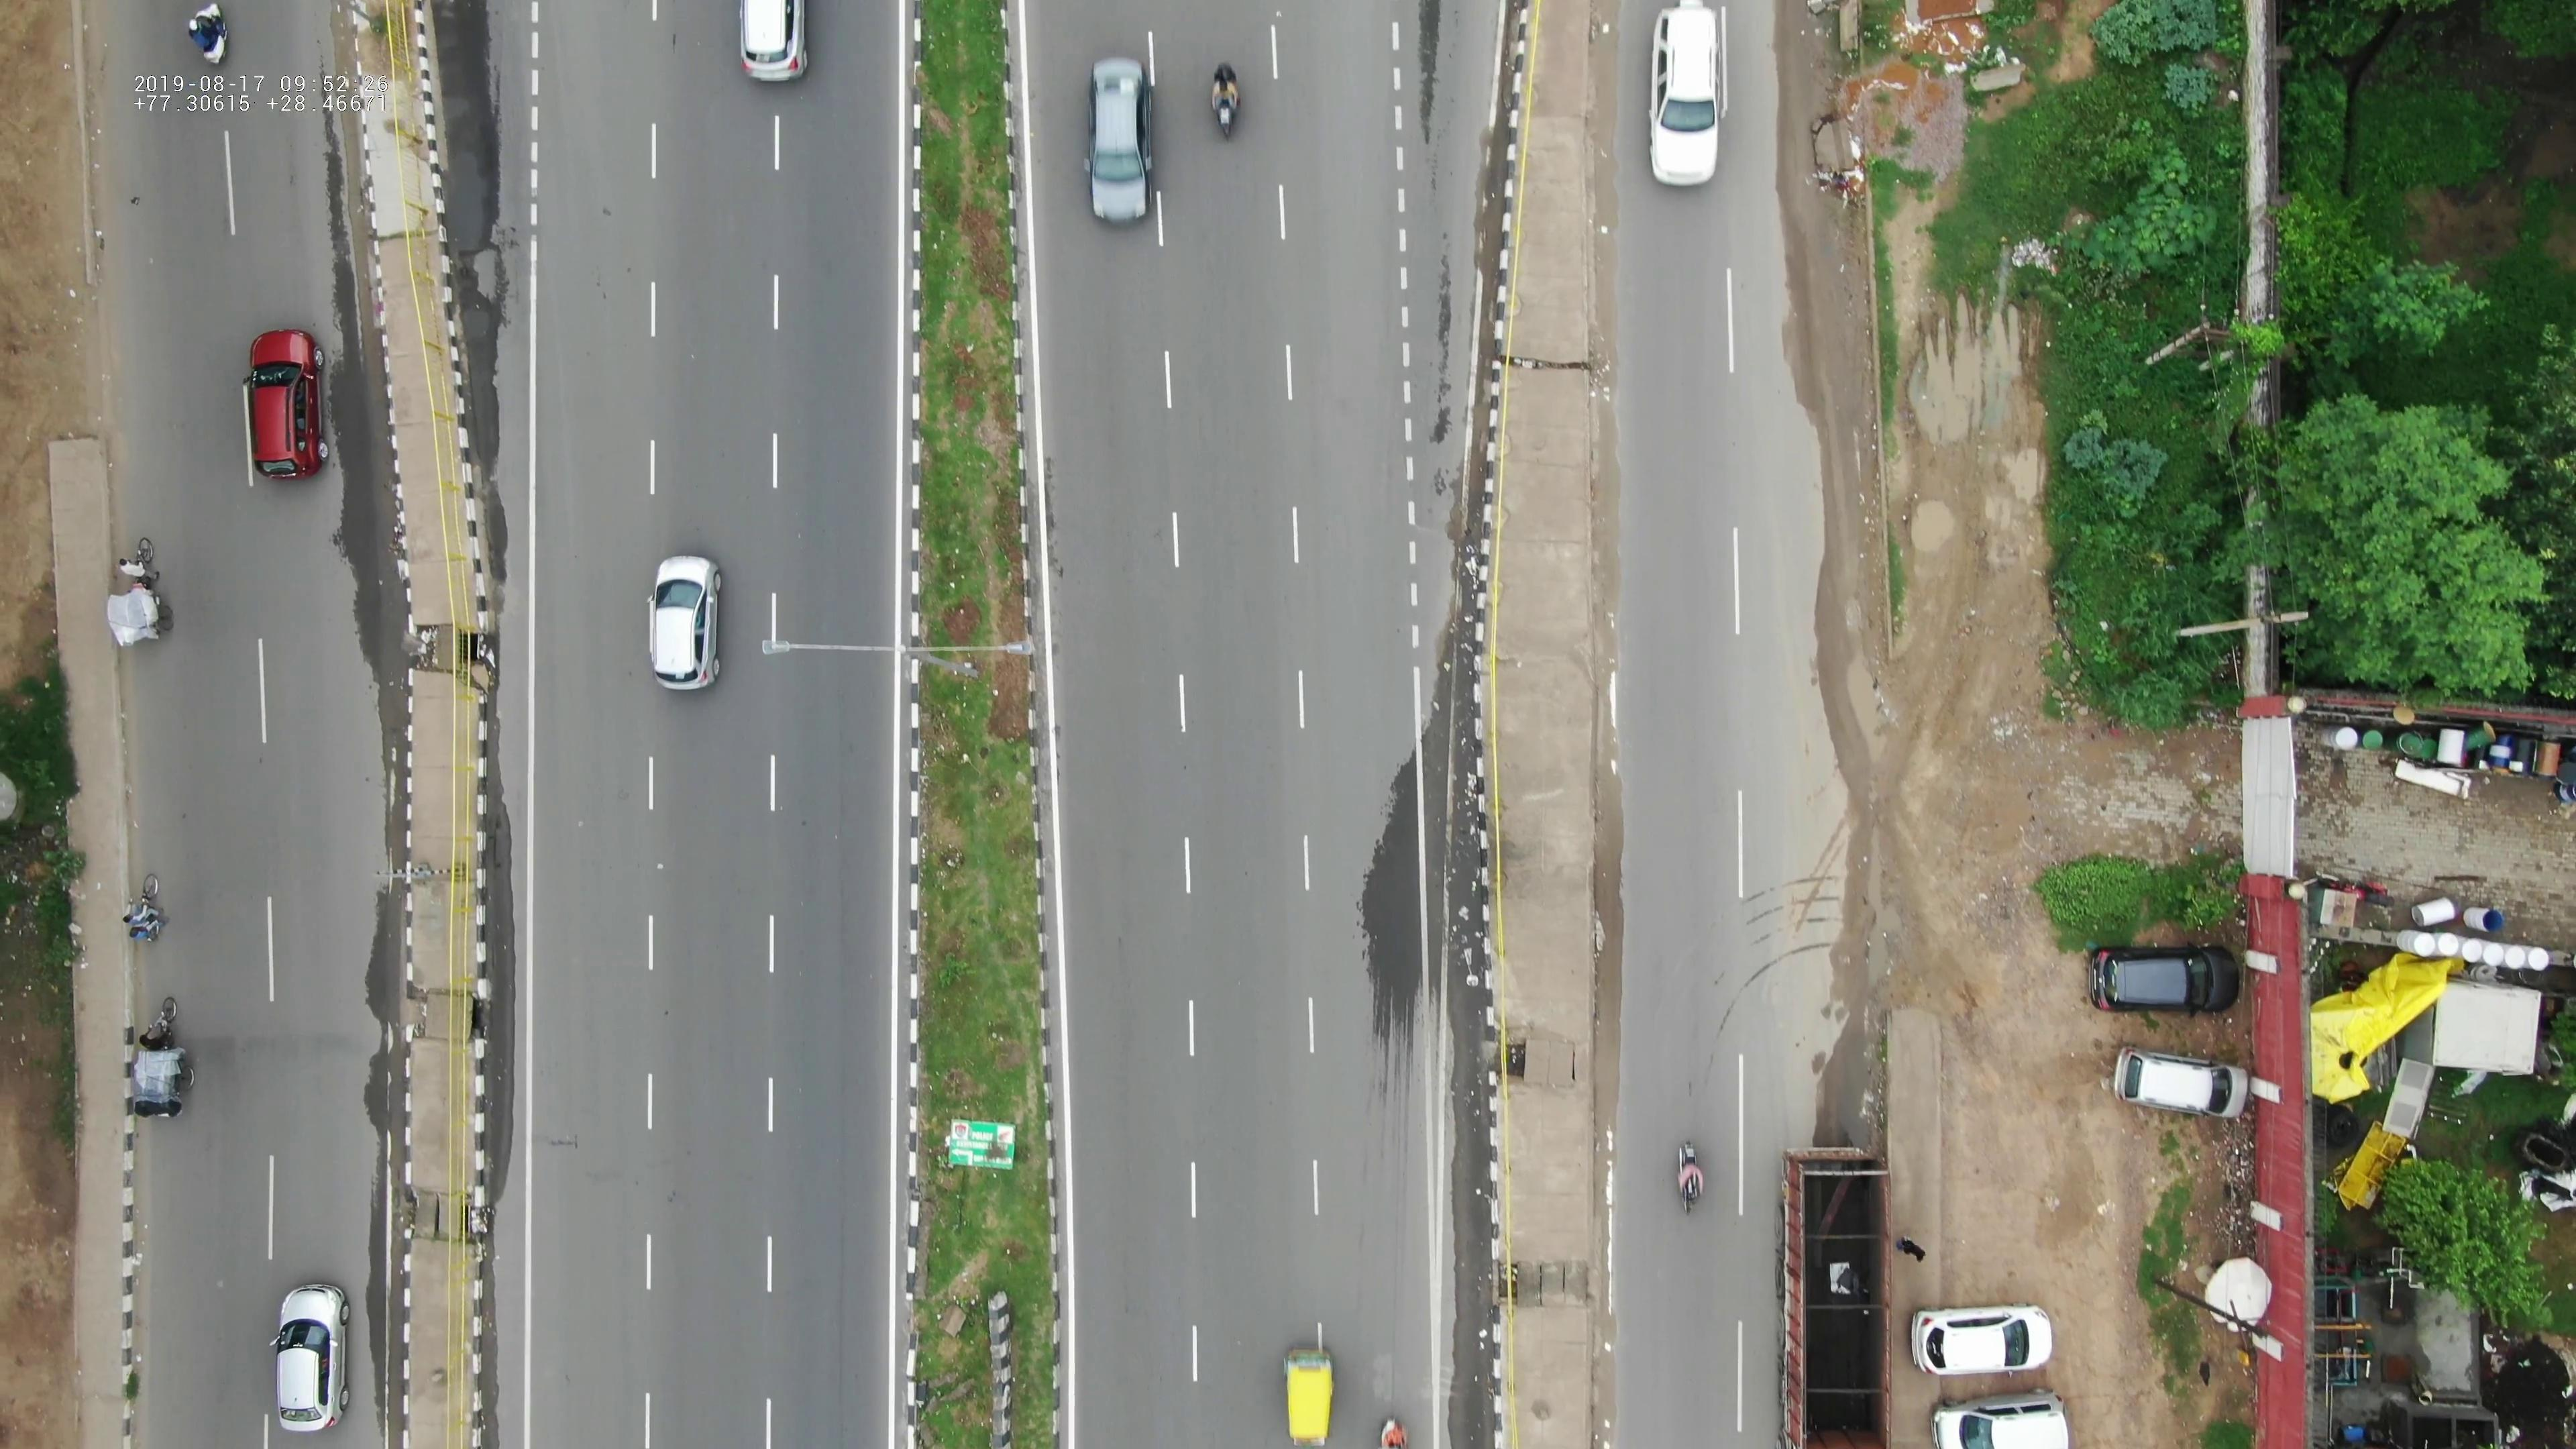Muddy_road: (1782, 334, 1918, 828), (1760, 14, 1870, 308)
